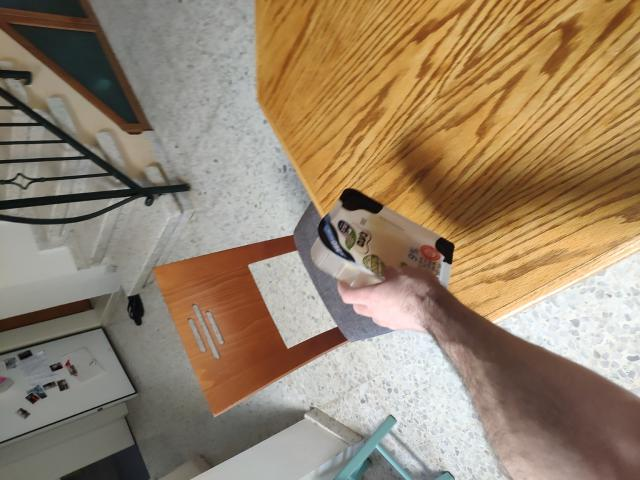cheese: (310, 188, 464, 327)
